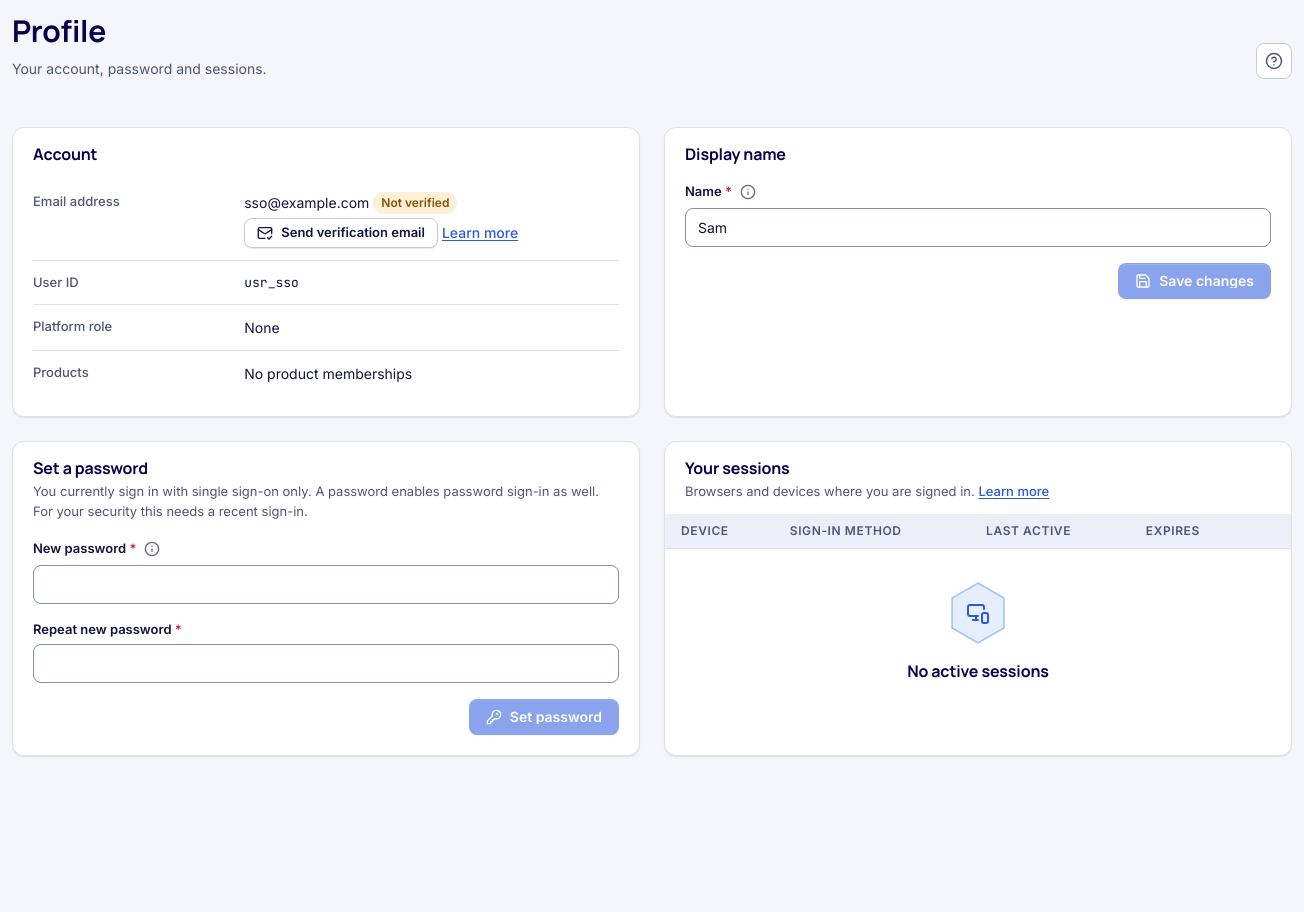
Test: ProfilePage email verification › reports the cooldown
Click the button "Send verification email". click: {"x": 341, "y": 232}
box: x1=244 y1=218 x2=438 y2=248
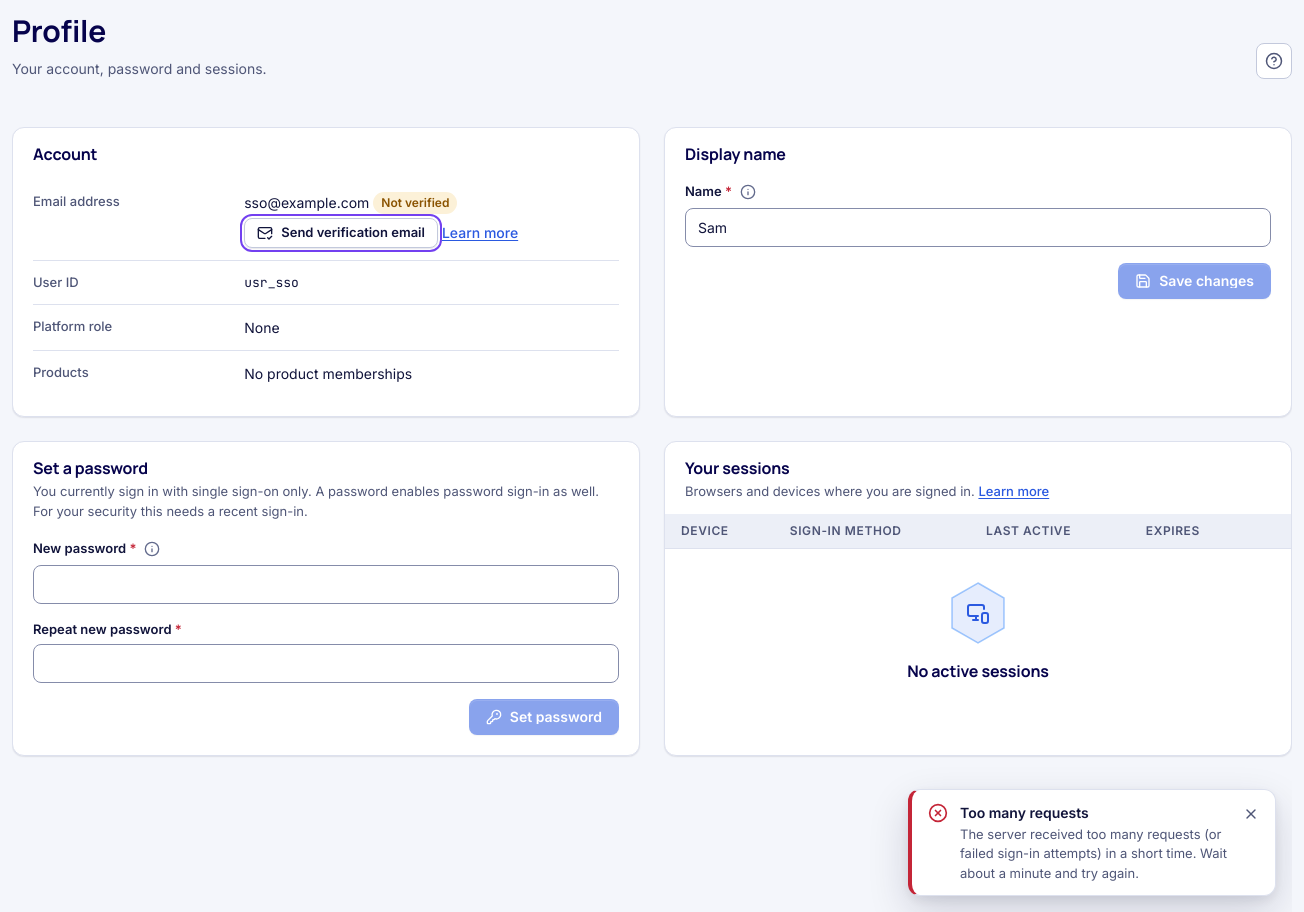
Now the text "Too many requests" is shown, box x1=960 y1=804 x2=1089 y2=820
